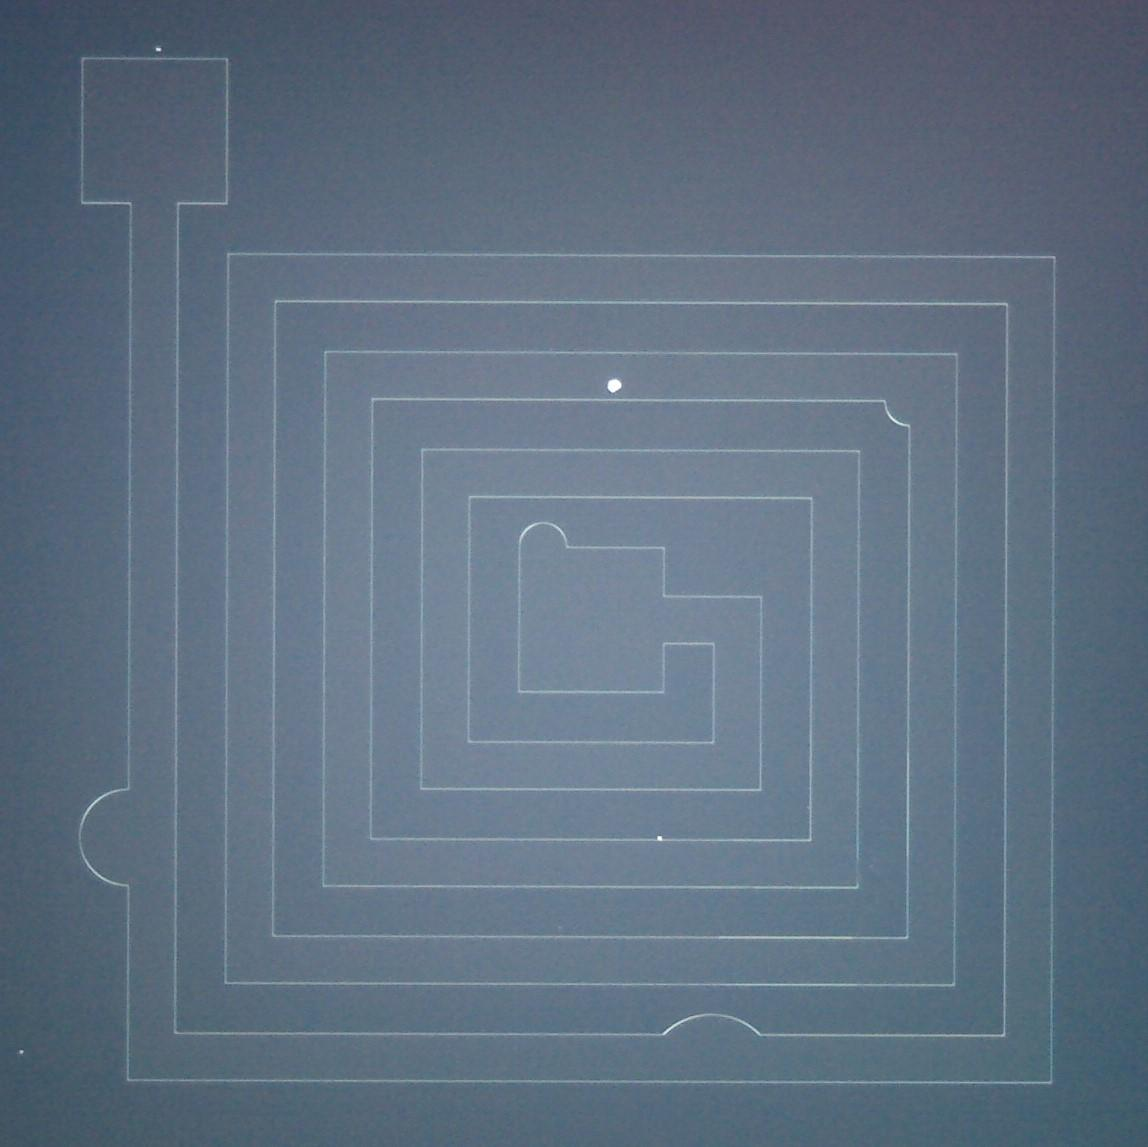B_point: (603, 376, 625, 397)
project: (631, 999, 796, 1110), (67, 772, 194, 904), (503, 512, 582, 717), (861, 342, 978, 449)
s_point: (152, 44, 165, 57), (654, 833, 666, 844), (802, 802, 814, 813), (555, 922, 566, 933), (865, 860, 876, 872), (17, 1047, 26, 1057)
